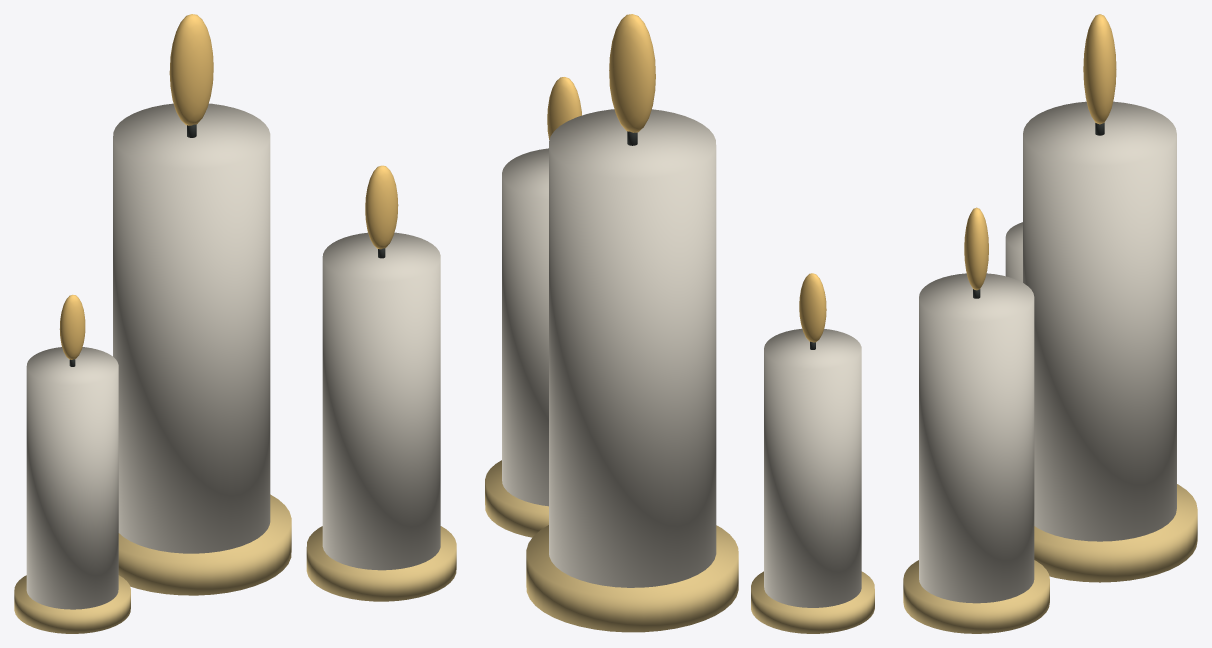
Rendered from candle-trio.glb.
3 renders of one model, left to right at view 1: azimuth 30°, elevation 25°; view 2: azimuth 150°, elevation 25°; view 3: azimuth 270°, elevation 25°, orthographic. The views are drawn at different scales.
Parts seen in each view (by area): view 1: wax-0, base-1, flame-3; view 2: wax-0, base-1, flame-3; view 3: wax-0, base-1, flame-3.
Boxes of the visible parts, x1,y1,x2,y2 form: wax-0: (26,103,440,609); base-1: (14,494,456,633); flame-3: (59,14,398,359); wax-0: (502,109,861,607); base-1: (485,460,874,633); flame-3: (547,14,826,342); wax-0: (919,101,1176,603); base-1: (903,484,1197,633); flame-3: (964,14,1116,290).
Bounding box in the file's own units: 0.884 × 1.18 × 0.5965.
